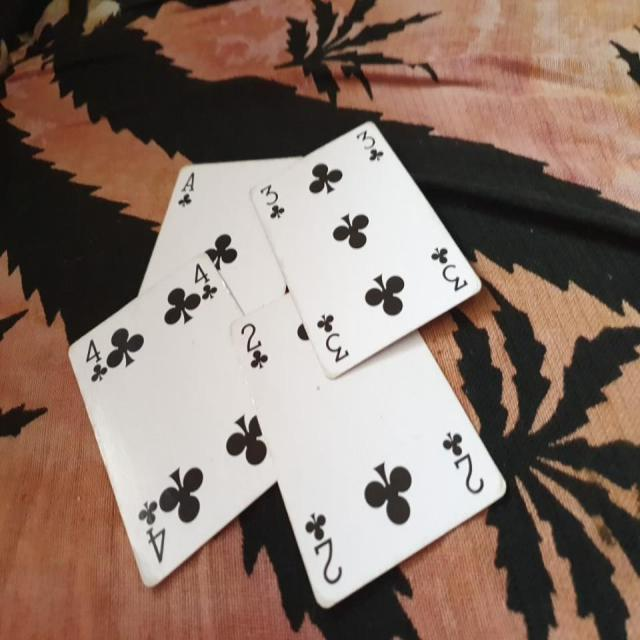2 Trefoils: (230, 294, 511, 609)
3 Trefoils: (249, 118, 485, 382)
4 Trefoils: (68, 254, 281, 590)
A Trefoils: (136, 150, 305, 313)
